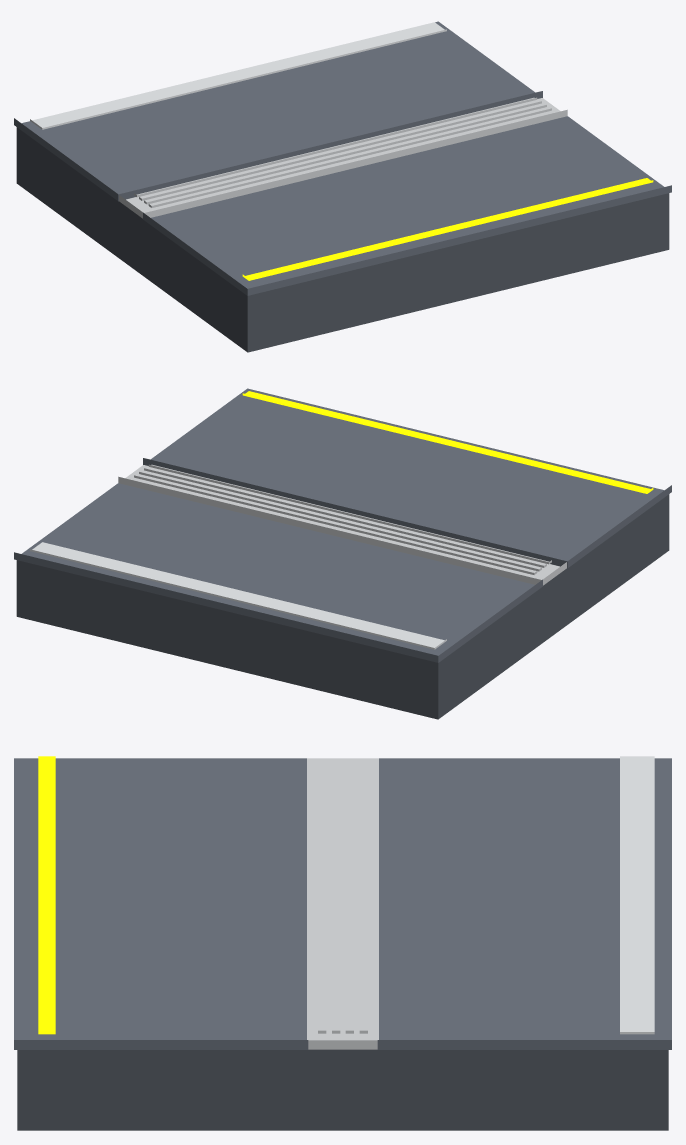
File: ext_tram_platform_kerb_04.glb
3 renders of one model, top to bottom at view 1: azimuth 30°, elevation 25°; view 2: azimuth 150°, elevation 25°; view 3: azimuth 270°, elevation 25°, orthographic. The views are drawn at different scales.
Visible parts, largest first — view 1: Deck, Body, Grate_Frame, Grate_Bars, Back_Strip, Edge_Light; view 2: Deck, Body, Grate_Frame, Grate_Bars, Back_Strip, Edge_Light; view 3: Deck, Body, Grate_Frame, Grate_Bars, Back_Strip, Edge_Light.
Part boxes in pixels (x1,y1,x2,y2): Deck: [14, 21, 671, 295]; Body: [16, 127, 669, 352]; Grate_Frame: [119, 98, 567, 218]; Grate_Bars: [134, 97, 551, 207]; Back_Strip: [30, 22, 446, 129]; Edge_Light: [242, 178, 653, 280]; Deck: [14, 388, 671, 662]; Body: [16, 494, 669, 719]; Grate_Frame: [118, 465, 566, 585]; Grate_Bars: [134, 464, 551, 574]; Back_Strip: [30, 542, 446, 649]; Edge_Light: [242, 391, 653, 493]; Deck: [14, 758, 671, 1049]; Body: [17, 1049, 668, 1130]; Grate_Frame: [307, 758, 378, 1049]; Grate_Bars: [318, 758, 367, 1033]; Back_Strip: [620, 756, 654, 1034]; Edge_Light: [38, 756, 55, 1034].
Size of the model in its own units: 1.99 by 0.298 by 1.9.
